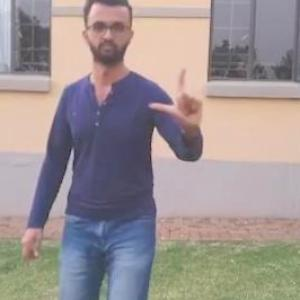land_hand: (146, 58, 209, 128)
